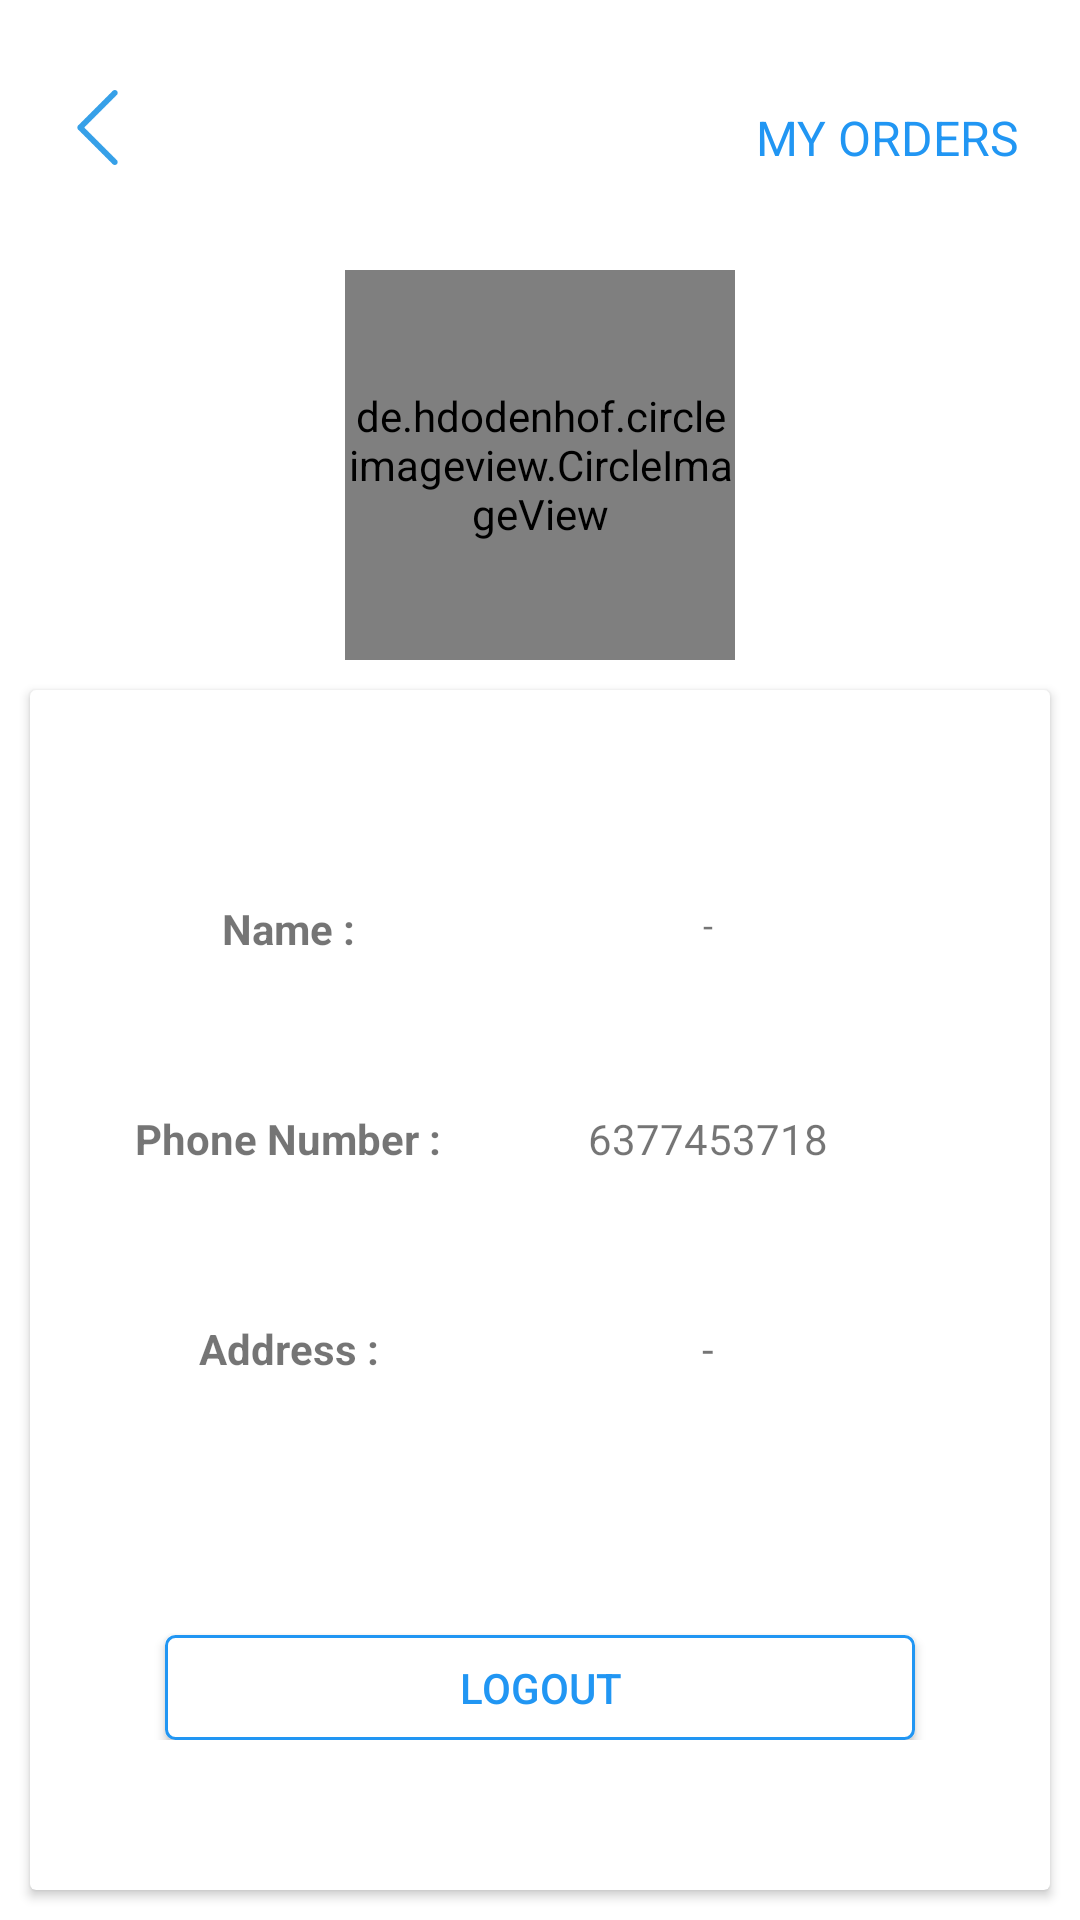

Icons on this 1080px x 1920px Android screen, each with the point to tap as [x,y]:
left: [97,127]
